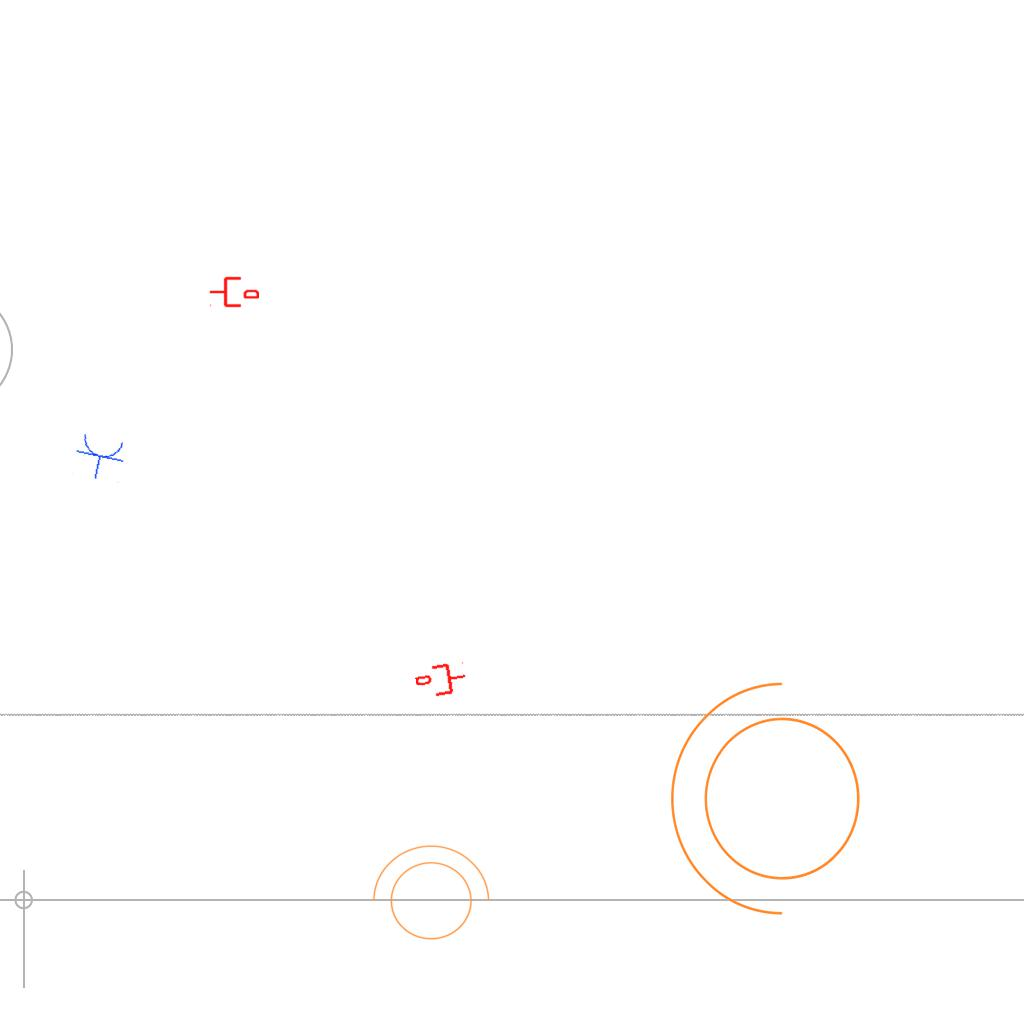Datenanschluss_einfach: (413, 659, 469, 701), (209, 275, 259, 309)
Scheinwerfer_fuer_Alarmbeleuchtung: (660, 673, 885, 937), (362, 840, 494, 952)
Schukosteckdose_einfach: (71, 431, 129, 484)
